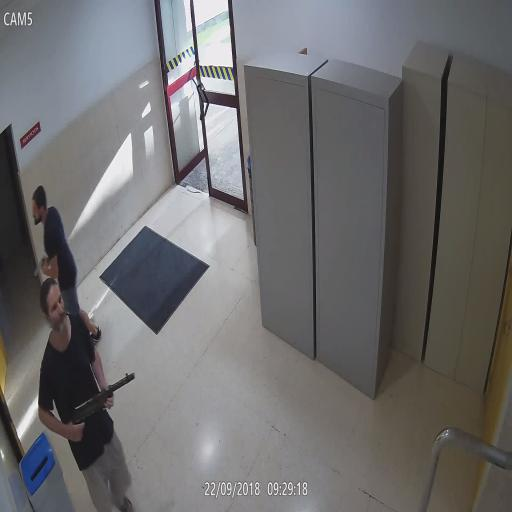Handgun: (32, 254, 50, 280)
